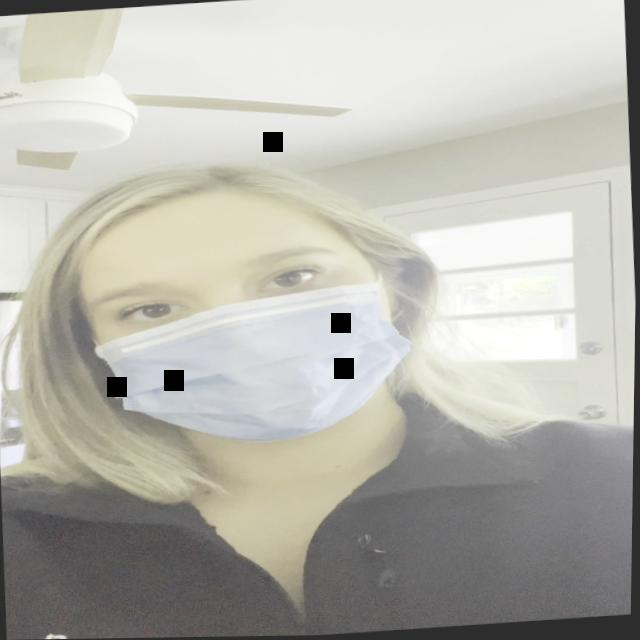Mask: (34, 172, 458, 474)
